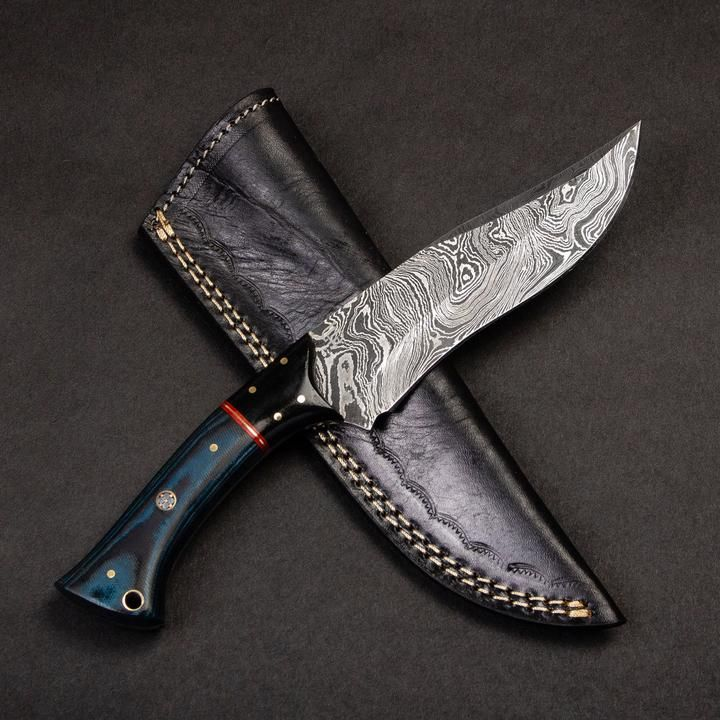knife: (45, 112, 653, 637)
